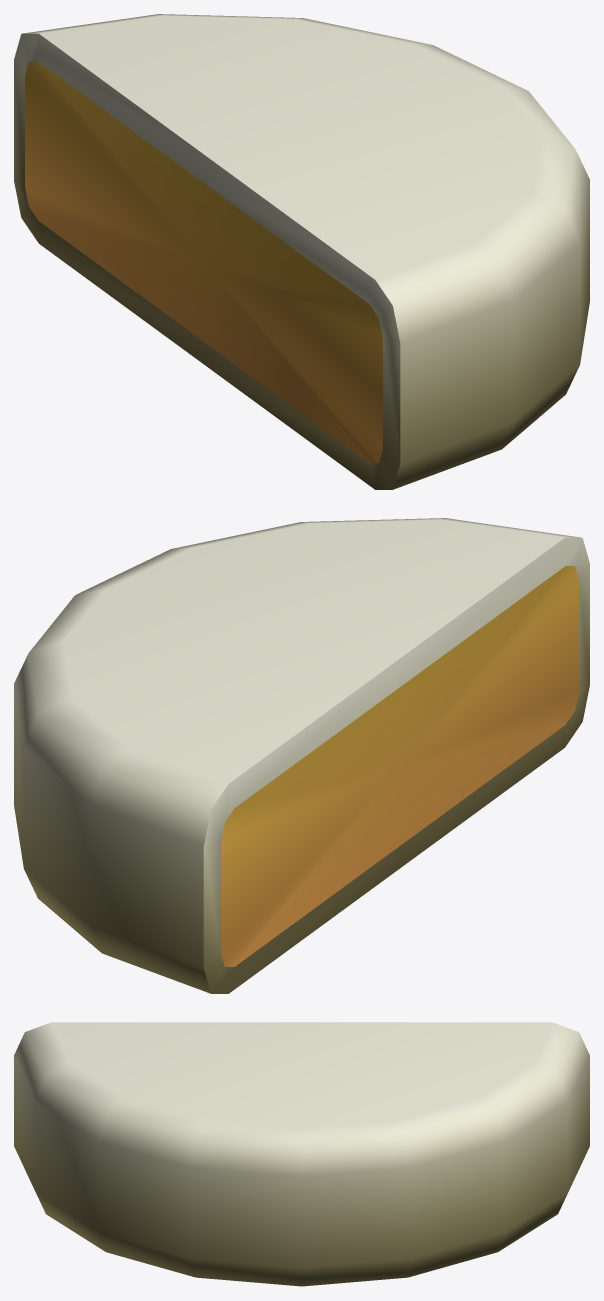
The model's file is White_Cheese_Half_01.glb.
The picture shows the model from 3 angles, top to bottom: view 1: azimuth 30°, elevation 25°; view 2: azimuth 150°, elevation 25°; view 3: azimuth 270°, elevation 25°; orthographic projection. The views are drawn at different scales.
Visible parts, largest first — view 1: White_Cheese_Half_01; view 2: White_Cheese_Half_01; view 3: White_Cheese_Half_01.
Part boxes in pixels (x1=…): White_Cheese_Half_01: x1=14, y1=14, x2=589, y2=489; White_Cheese_Half_01: x1=14, y1=518, x2=589, y2=993; White_Cheese_Half_01: x1=14, y1=1022, x2=589, y2=1286.
Size of the model in its own units: 0.2317 by 0.1377 by 0.459.
Materials: 1 (1 with a texture image).
